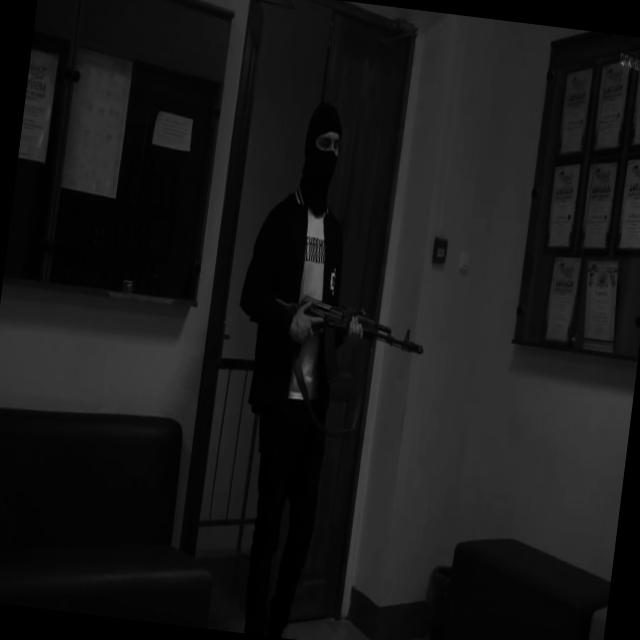gun: (242, 284, 429, 396)
person with a gun: (198, 93, 451, 640)
